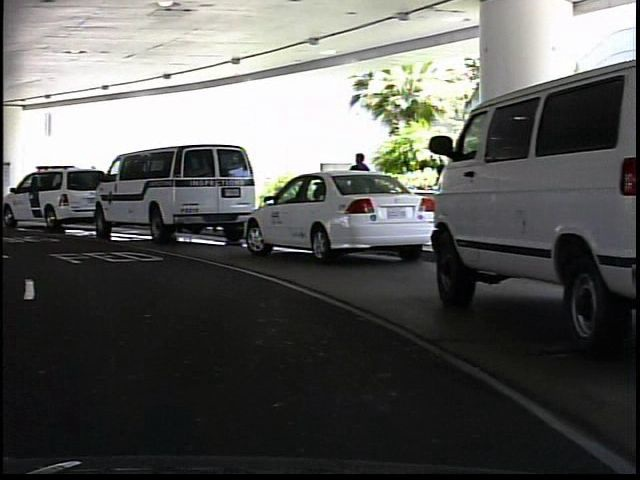person: (344, 148, 375, 237)
